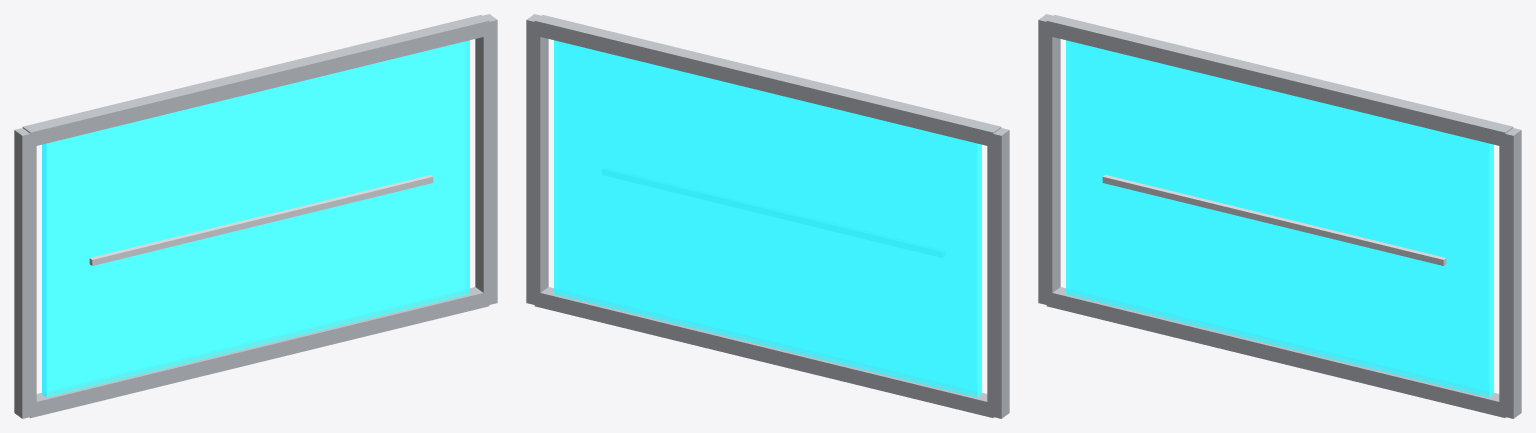
The model's file is hologram_panel.glb.
3 views of the same model, side by side, from view 1: azimuth 30°, elevation 25°; view 2: azimuth 150°, elevation 25°; view 3: azimuth 330°, elevation 25° (orthographic).
Parts seen in each view (by area): view 1: panel_glass, top_bar, bottom_bar, left_bar, right_bar, center_line; view 2: panel_glass, top_bar, bottom_bar, left_bar, right_bar; view 3: panel_glass, top_bar, bottom_bar, right_bar, left_bar, center_line.
Boxes of the visible parts, x1,y1,x2,y2 form: panel_glass: (42,40,469,397); top_bar: (22,15,489,147); bottom_bar: (30,287,489,417); left_bar: (14,128,36,418); right_bar: (475,14,497,306); center_line: (89,175,433,265); panel_glass: (554,40,981,397); top_bar: (534,15,1001,146); bottom_bar: (534,287,993,417); left_bar: (987,128,1009,418); right_bar: (526,14,548,304); panel_glass: (1066,40,1493,397); top_bar: (1046,15,1513,146); bottom_bar: (1046,287,1505,417); right_bar: (1499,128,1521,418); left_bar: (1038,14,1060,305); center_line: (1102,175,1446,265).
Size of the model in its own units: 2.02 by 1.16 by 0.08.
